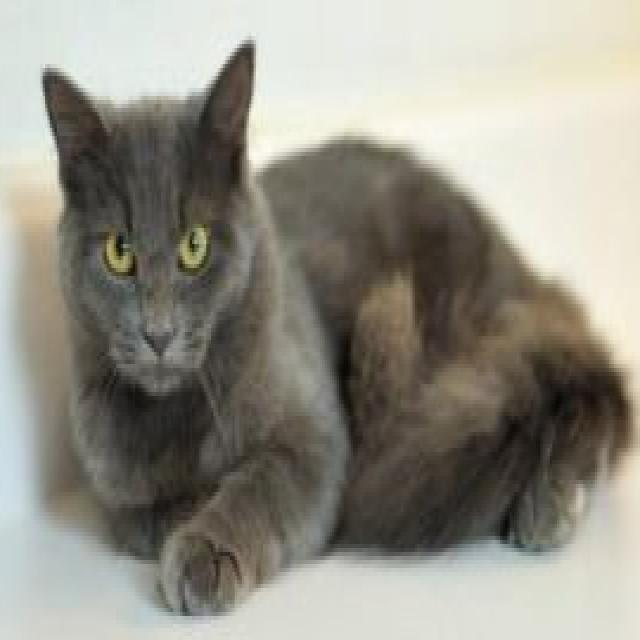Russian Blue: (38, 28, 640, 624)
